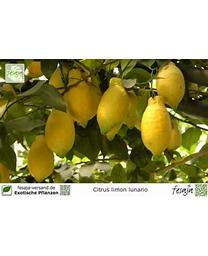lemon: (141, 96, 171, 156), (97, 78, 128, 134), (66, 68, 92, 128), (45, 107, 75, 157), (156, 62, 185, 108), (27, 135, 55, 182)
